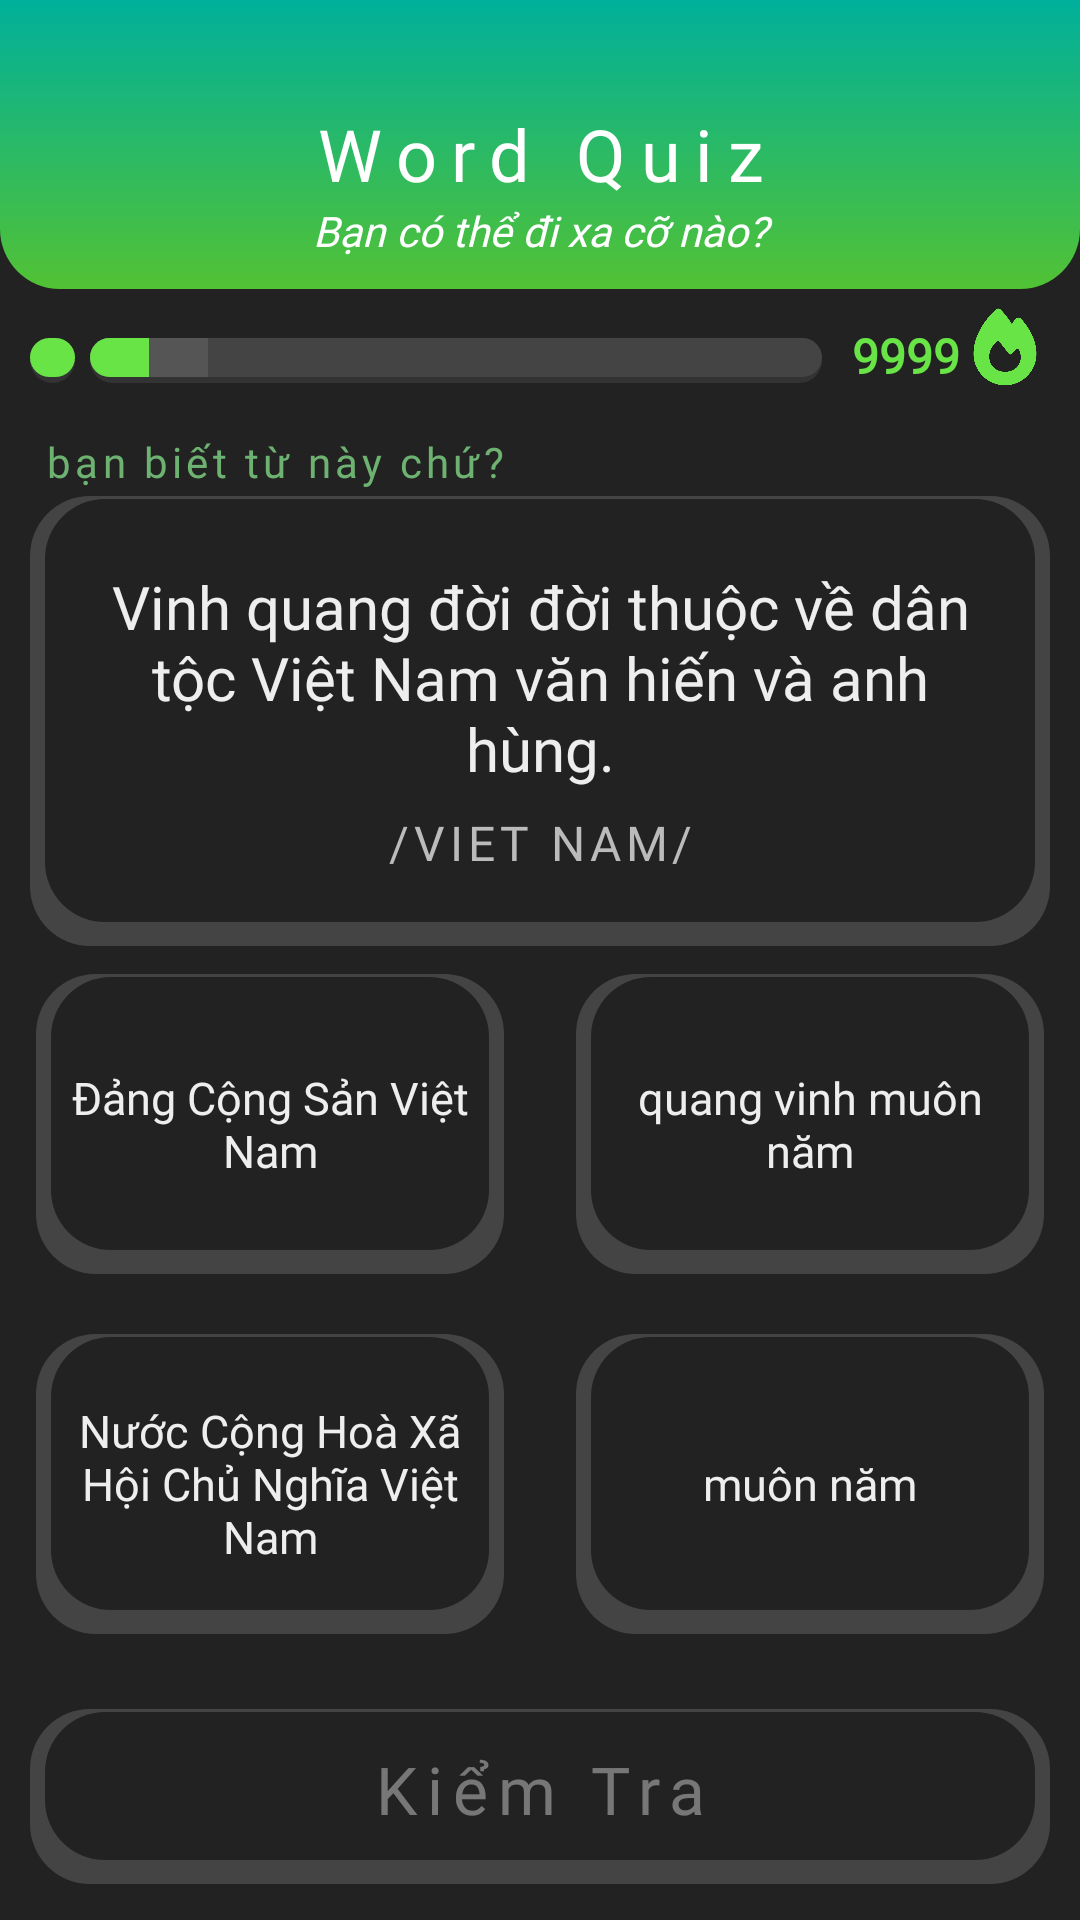

Locate icon controls on the screen. Image size 1080 x 1920, boxes as [x1,y1,x2,y2].
fire: [973,308,1037,385]
